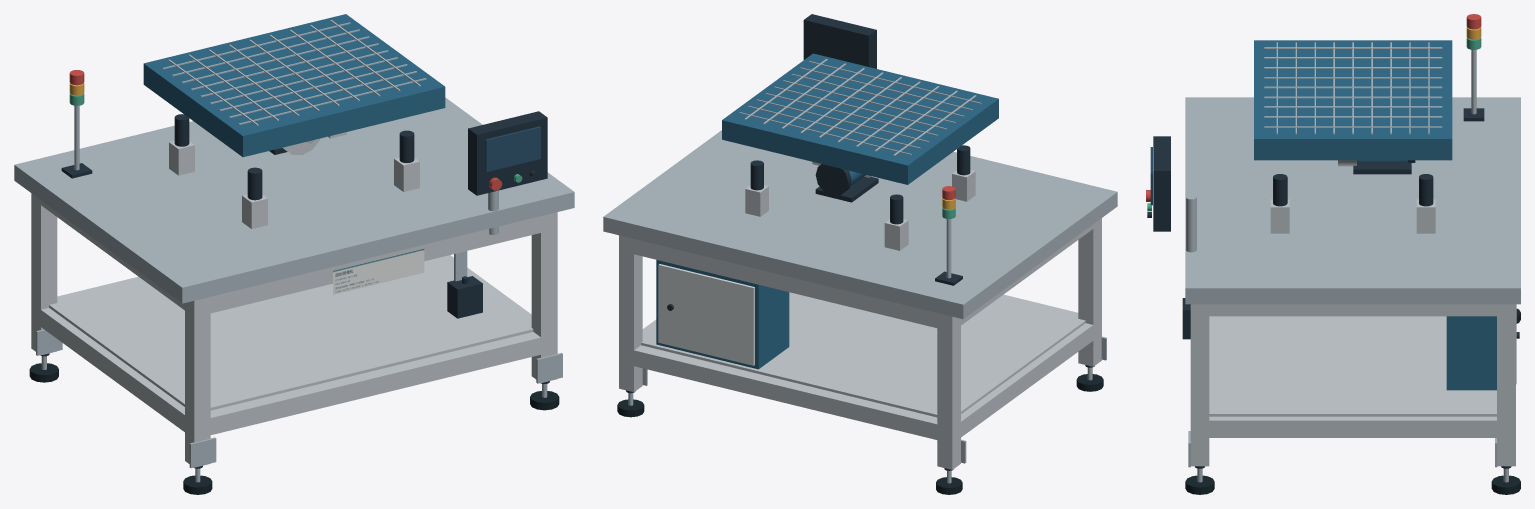
The model's file is flour-sifter-cell.glb.
3 renders of one model, left to right at view 1: azimuth 30°, elevation 25°; view 2: azimuth 150°, elevation 25°; view 3: azimuth 270°, elevation 25°, orthographic. The views are drawn at different scales.
Visible parts, largest first — view 1: ClosedMachineBed_28, LowerShelf_29, ScreenFrame_56, SlottedExtrusion_22, SlottedExtrusion_23, SlottedExtrusion_8, SlottedExtrusion_24, SlottedExtrusion_18, ConsoleBack_34, SlottedExtrusion_3, OriginalNameplate_42, Screen_35 (+7 smaller); view 2: ClosedMachineBed_28, LowerShelf_29, ScreenFrame_56, BackDoor_31, SlottedExtrusion_20, SlottedExtrusion_21, SlottedExtrusion_3, Cabinet_30, SlottedExtrusion_13, SlottedExtrusion_24, ConsoleBack_34, SlottedExtrusion_8 (+6 smaller); view 3: ClosedMachineBed_28, LowerShelf_29, ScreenFrame_56, SlottedExtrusion_26, Cabinet_30, SlottedExtrusion_27, SlottedExtrusion_18, SlottedExtrusion_13, ConsoleBack_34, MountFoot_80, ConsoleBracket_33, SlottedExtrusion_53 (+7 smaller).
Boxes of the visible parts, <box> form: ClosedMachineBed_28: <box>14,97,574,303</box>; LowerShelf_29: <box>49,256,533,410</box>; ScreenFrame_56: <box>143,14,445,157</box>; SlottedExtrusion_22: <box>203,332,540,435</box>; SlottedExtrusion_23: <box>202,216,540,315</box>; SlottedExtrusion_8: <box>185,297,210,467</box>; SlottedExtrusion_24: <box>36,308,184,431</box>; SlottedExtrusion_18: <box>531,212,557,382</box>; ConsoleBack_34: <box>468,111,547,195</box>; SlottedExtrusion_3: <box>31,193,57,355</box>; OriginalNameplate_42: <box>333,249,424,294</box>; Screen_35: <box>485,126,540,172</box>; ClosedMachineBed_28: <box>603,130,1117,319</box>; LowerShelf_29: <box>641,292,1085,417</box>; ScreenFrame_56: <box>722,53,998,184</box>; BackDoor_31: <box>658,264,754,365</box>; SlottedExtrusion_20: <box>626,345,944,441</box>; SlottedExtrusion_21: <box>626,237,944,329</box>; SlottedExtrusion_3: <box>937,313,960,469</box>; Cabinet_30: <box>656,260,789,369</box>; SlottedExtrusion_13: <box>619,235,642,392</box>; SlottedExtrusion_24: <box>956,322,1097,440</box>; ConsoleBack_34: <box>803,14,876,68</box>; SlottedExtrusion_8: <box>1078,218,1101,366</box>; ClosedMachineBed_28: <box>1185,97,1520,304</box>; LowerShelf_29: <box>1209,316,1496,416</box>; ScreenFrame_56: <box>1254,40,1452,160</box>; SlottedExtrusion_26: <box>1200,416,1505,437</box>; Cabinet_30: <box>1446,316,1496,390</box>; SlottedExtrusion_27: <box>1202,304,1505,316</box>; SlottedExtrusion_18: <box>1190,304,1209,466</box>; SlottedExtrusion_13: <box>1497,304,1515,466</box>; ConsoleBack_34: <box>1153,136,1170,231</box>; MountFoot_80: <box>1353,160,1411,174</box>; ConsoleBracket_33: <box>1186,195,1196,252</box>; SlottedExtrusion_53: <box>1416,199,1435,233</box>.
Size of the model in its own units: 1.55 by 1.2 by 1.29.
Materials: 11 (1 with a texture image).
